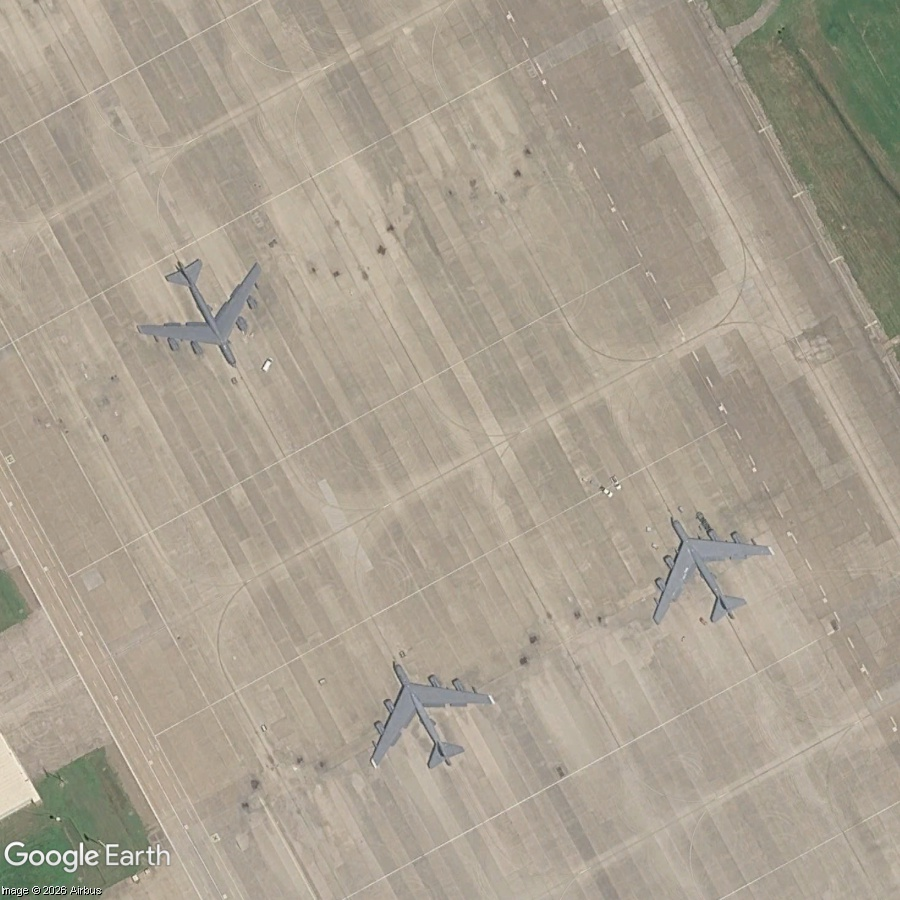Máy bay ném bom: (112, 223, 303, 407), (608, 476, 797, 659), (329, 624, 515, 803)
